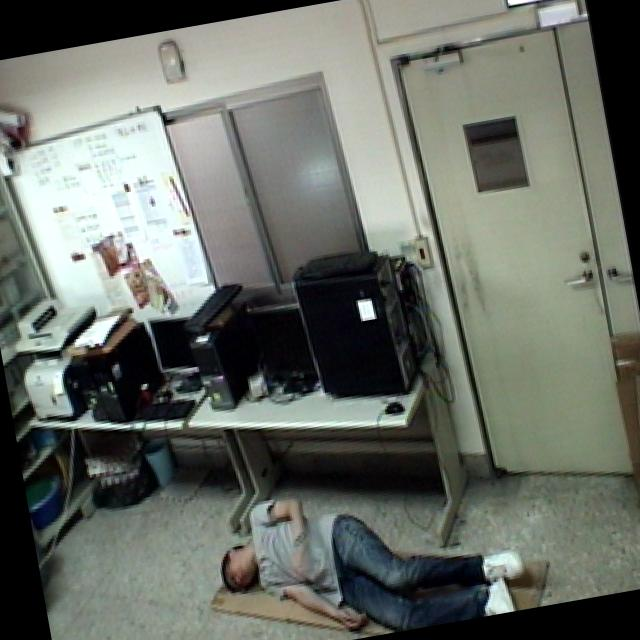lie: (199, 446, 531, 640)
